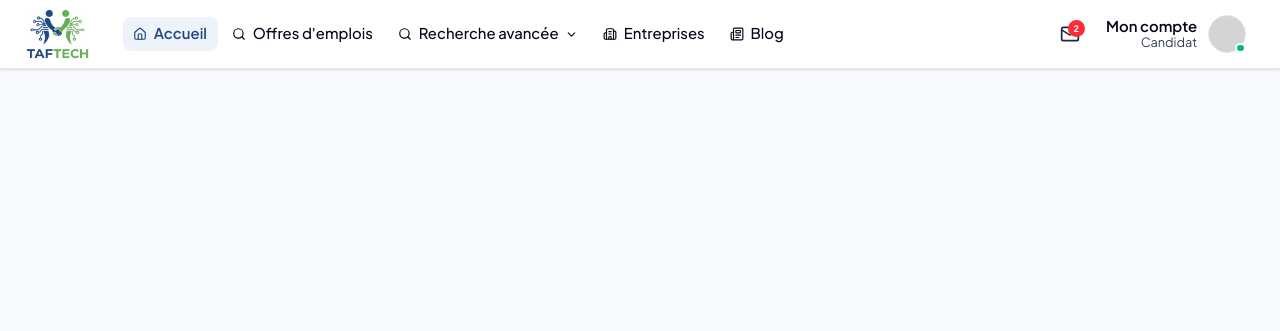
Test: 🖥️ UI & Logique - Composant <Navbar /> › 🟢 Happy Path 2 : Rendu Candidat avec Notifications et Photo
Expected: the text "2" is shown, [1068,20,1085,37]
Step 1. Click the text "Mon compte" → (1152, 26), box [1106,17,1197,35]
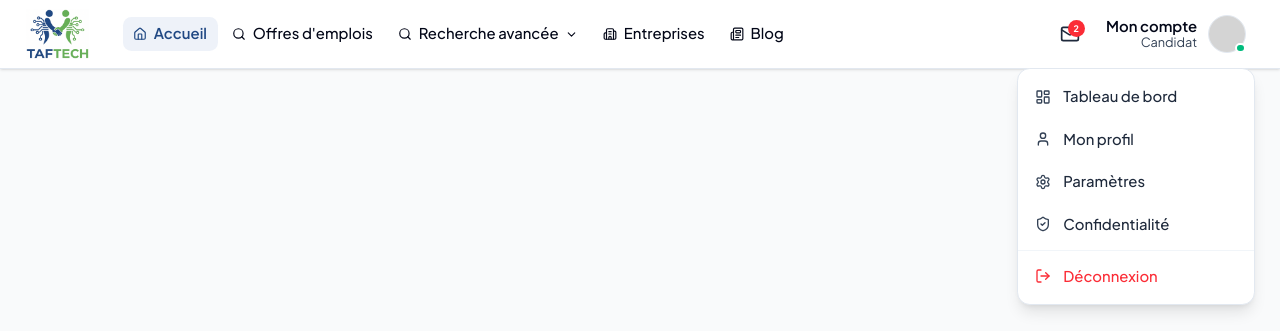
Now the link "Mon profil" is shown, box [1034,130,1134,148]
